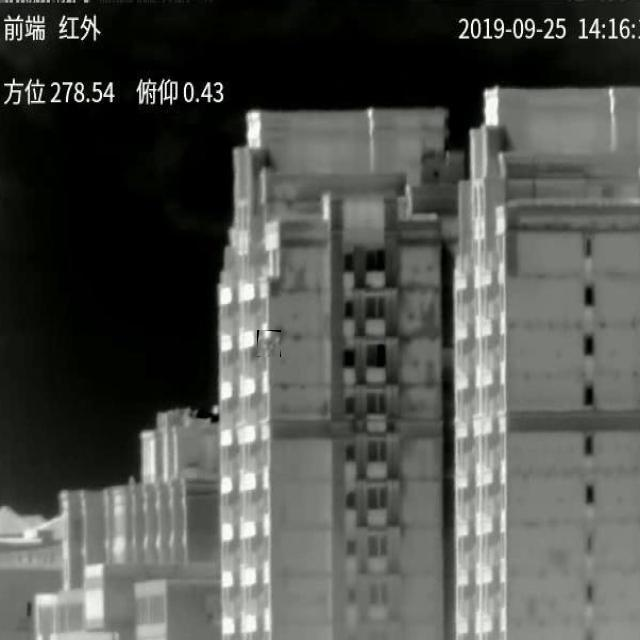drone: (258, 332, 281, 357)
